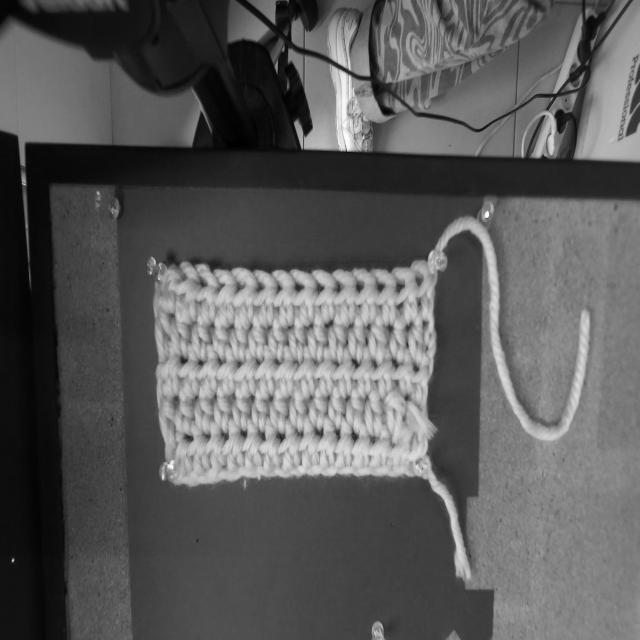ch: (239, 468, 264, 480), (190, 473, 212, 486), (221, 469, 242, 482), (179, 474, 198, 488), (306, 464, 325, 476), (259, 467, 279, 478), (290, 466, 308, 478), (336, 466, 355, 476), (207, 470, 224, 481), (355, 468, 373, 478), (372, 466, 391, 475), (389, 466, 408, 475), (324, 467, 336, 478), (276, 468, 289, 478)
hdc: (326, 268, 357, 328), (157, 378, 178, 460), (231, 269, 258, 331), (175, 260, 200, 324), (155, 264, 185, 314), (353, 269, 379, 326), (271, 270, 296, 329), (221, 414, 245, 475), (291, 269, 317, 325), (196, 262, 219, 324), (292, 344, 317, 401), (310, 270, 337, 322), (273, 346, 299, 399), (254, 345, 279, 400), (252, 270, 276, 327), (214, 267, 237, 326), (372, 270, 396, 326), (384, 383, 406, 443), (368, 346, 393, 397), (204, 419, 227, 474), (157, 341, 180, 396), (154, 293, 172, 361), (259, 417, 282, 470), (179, 343, 201, 398), (395, 271, 417, 326), (313, 346, 337, 396), (171, 299, 190, 362), (279, 419, 302, 470), (241, 418, 264, 469), (332, 347, 355, 398), (298, 413, 320, 466), (199, 344, 220, 399), (346, 306, 365, 364), (307, 306, 327, 361), (368, 310, 387, 366), (235, 350, 257, 398), (393, 347, 414, 397), (189, 420, 209, 472), (268, 308, 287, 361), (327, 312, 346, 365), (192, 304, 209, 363), (353, 346, 373, 396), (287, 306, 305, 361), (308, 379, 327, 431), (365, 382, 383, 436), (214, 376, 231, 433), (269, 382, 288, 433), (229, 313, 248, 363), (219, 344, 237, 396), (319, 417, 337, 468), (232, 381, 251, 429), (195, 384, 213, 434), (390, 307, 406, 363), (347, 385, 365, 433), (371, 421, 391, 464), (335, 419, 354, 463), (413, 357, 430, 406), (249, 313, 266, 362), (353, 423, 371, 468), (392, 424, 411, 466), (289, 384, 305, 433), (409, 312, 424, 364), (251, 389, 269, 432), (213, 307, 227, 362), (176, 427, 193, 472), (176, 388, 193, 433), (329, 386, 345, 428)
